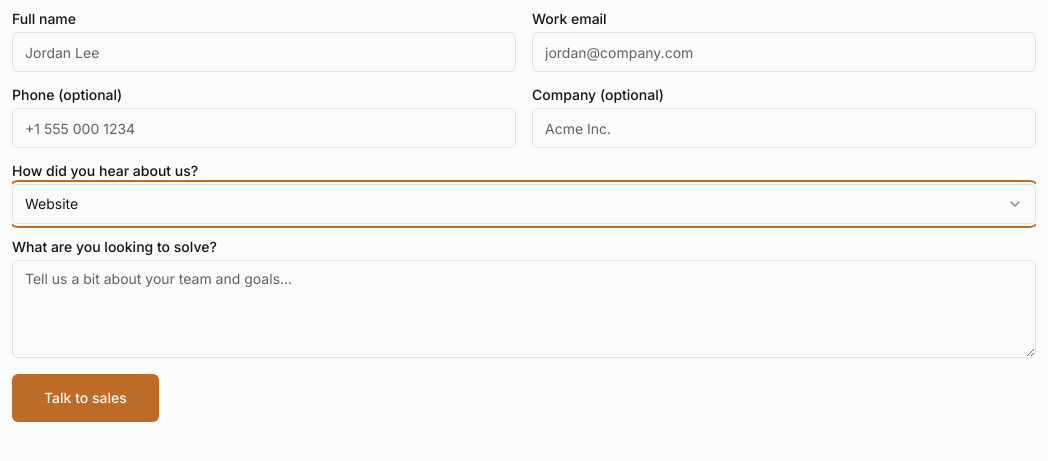
Test case: PublicLeadForm › shows a validation error when the name is too short
Type "A" into the field labelled "Full name" at (264, 52), box [12,32,516,72]
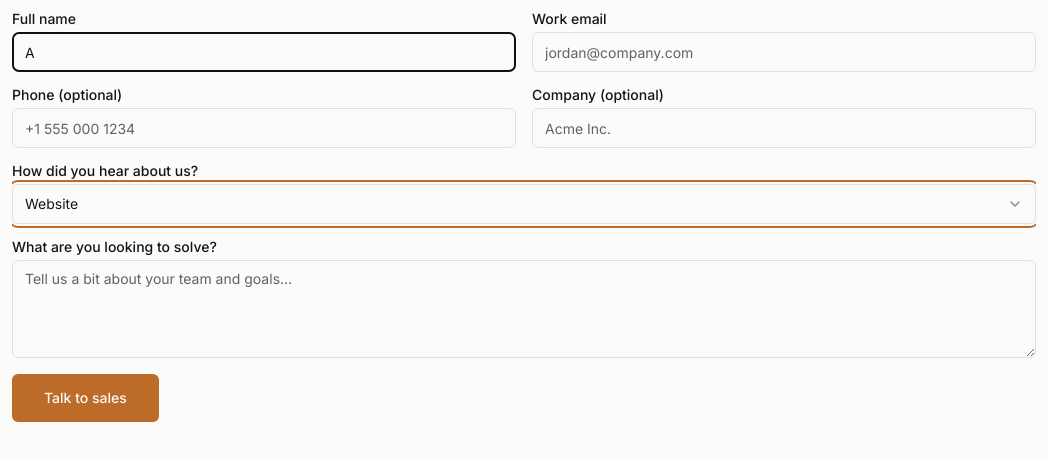
Type "not-an-email" into the field labelled "Work email" at (784, 52), box [532,32,1036,72]
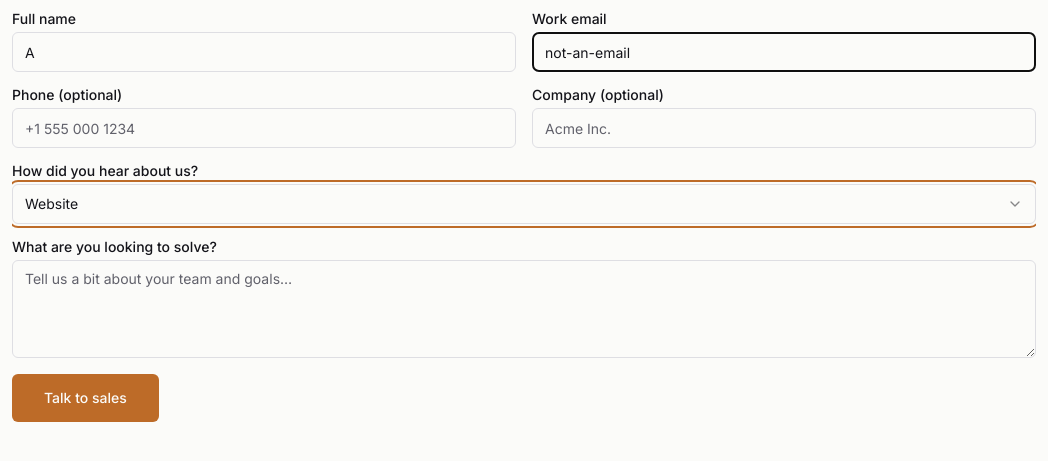
Click the button "Talk to sales" at (85, 398), box [12,374,159,422]
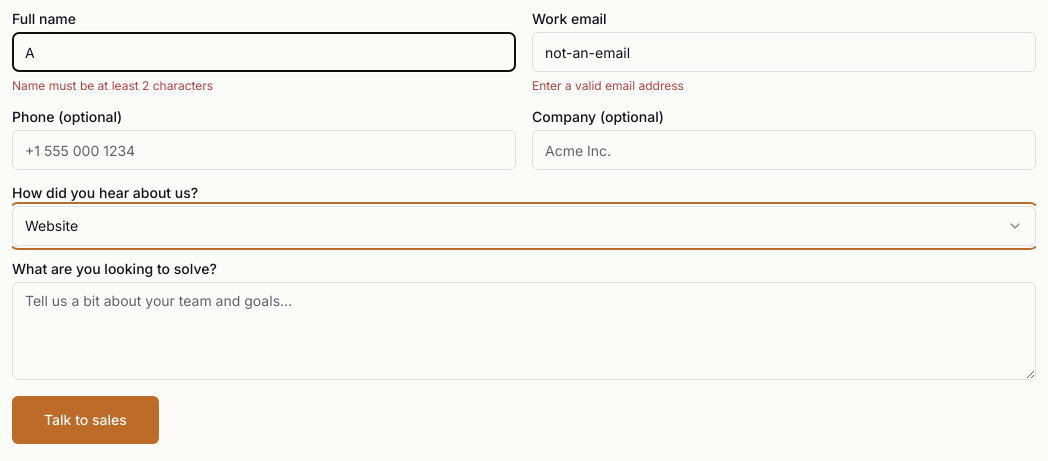
Check: the text "Name must be at least 2 characters" is shown, box [12,78,213,93]
